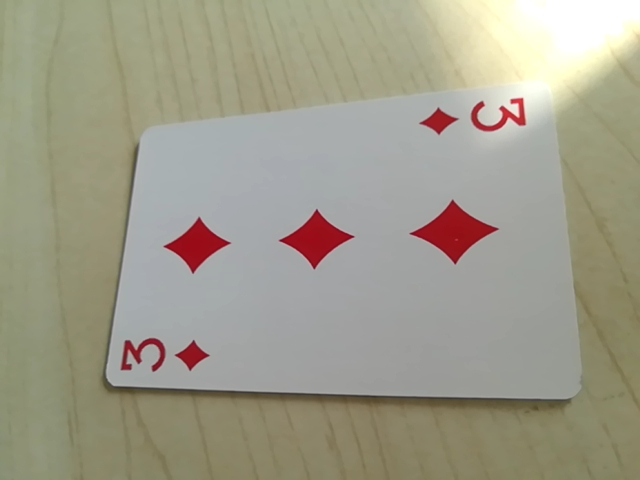fk 3: (425, 92, 531, 145), (115, 328, 213, 384)
